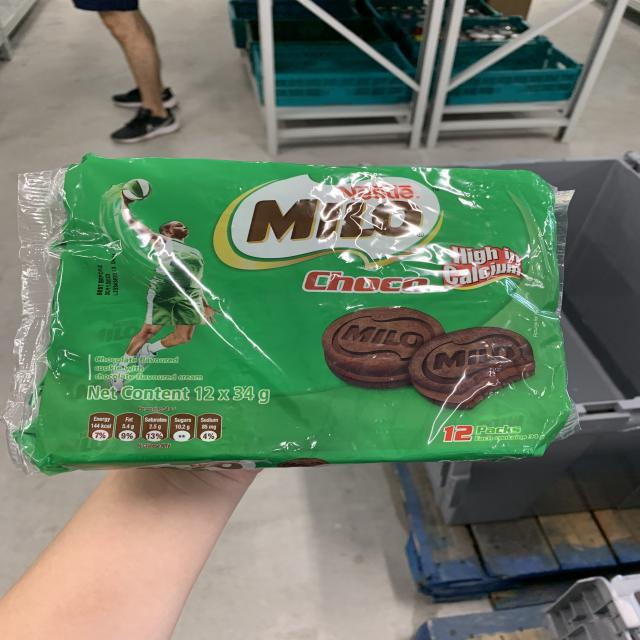object_name: (34, 167, 548, 457)
